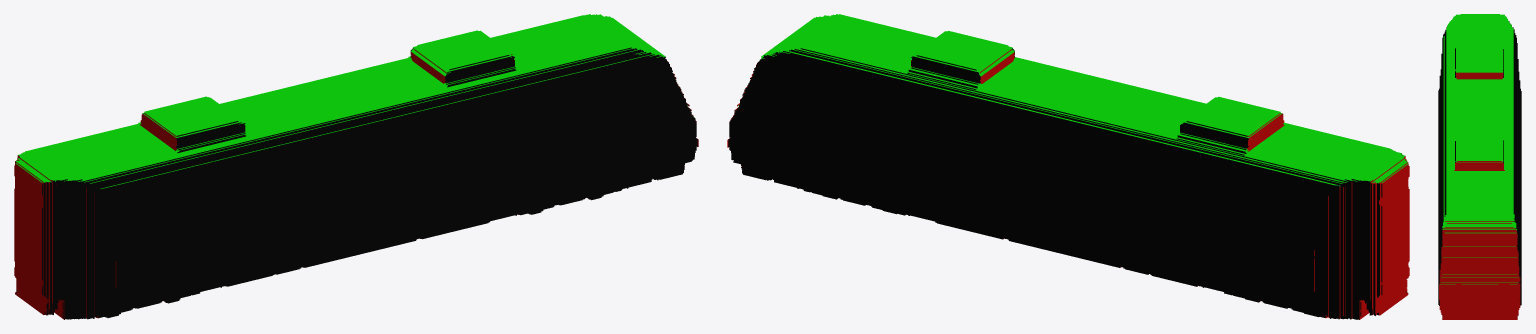
Rendered from city_train_head.glb.
3 renders of one model, left to right at view 1: azimuth 30°, elevation 25°; view 2: azimuth 150°, elevation 25°; view 3: azimuth 270°, elevation 25°, orthographic. The views are drawn at different scales.
Parts seen in each view (by area): view 1: city_train_head; view 2: city_train_head; view 3: city_train_head.
Part boxes in pixels (<box>): city_train_head: <box>14,14,698,319</box>; city_train_head: <box>727,14,1409,319</box>; city_train_head: <box>1438,14,1521,319</box>.
Size of the model in its own units: 20 by 4.88 by 3.25.
